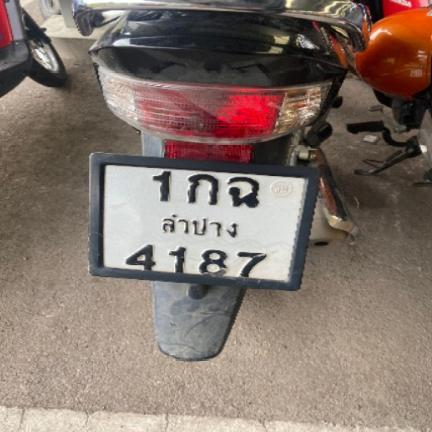1: (162, 244, 190, 274), (148, 170, 172, 202)
4: (122, 243, 157, 273)
7: (237, 249, 268, 281)
8: (198, 247, 228, 277)
A01: (182, 171, 220, 207)
A09: (224, 175, 264, 208)
LPG: (156, 210, 240, 238)
